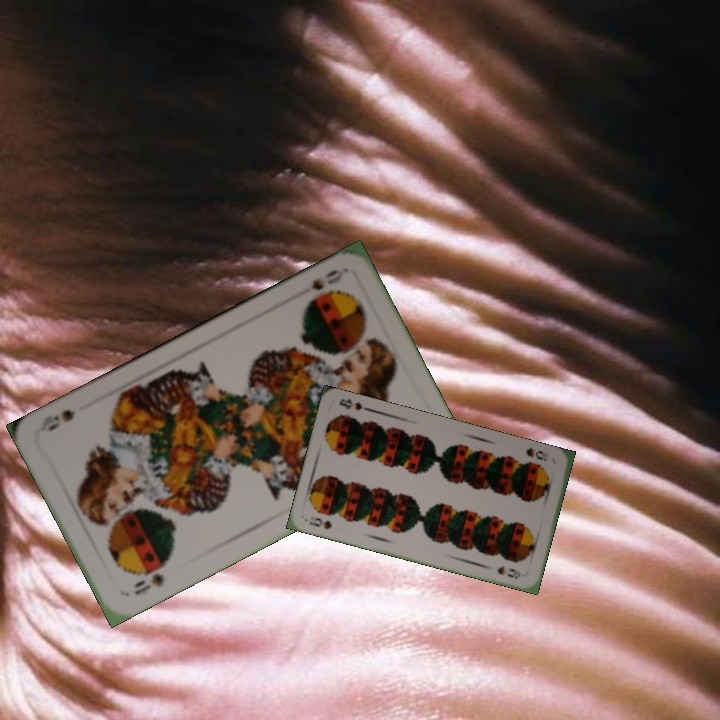S8: (522, 444, 551, 463), (305, 513, 334, 532)
SO: (129, 559, 170, 598), (307, 265, 347, 293)
